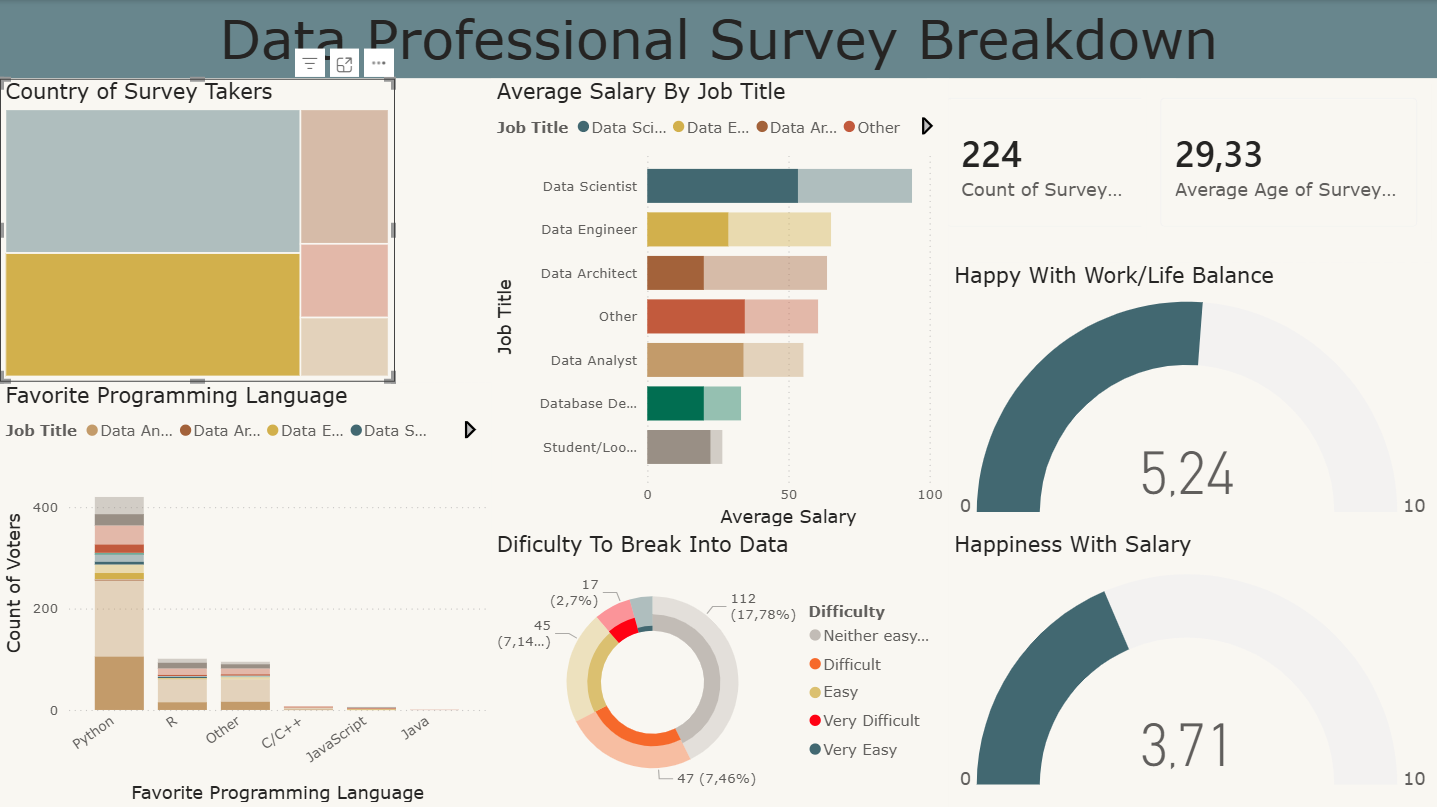

This screenshot's page, from the dashboard's own definition file:
{"tool":"powerbi","page":{"name":"Page 1","canvas":[1280,720],"ordinal":0},"visuals":[{"type":"textbox","box":[0,0,1280.3,70],"z":0},{"type":"cardVisual","fields":{"Data":["Count(Data Professional Survey.Unique ID)"]},"box":[826.1,70,220.9,149.6],"z":1000},{"type":"cardVisual","fields":{"Data":["Avg(Data Professional Survey.Q10 - Current Age)"]},"box":[1016.8,70,263.5,149.6],"z":2000},{"type":"barChart","title":"Average Salary By Job Title","fields":{"Category":["Data Professional Survey.Q1 - Which Title Best Fits your Current Role?.1"],"Y":["Avg(Data Professional Survey.Average Salary)"],"Series":["Data Professional Survey.Q1 - Which Title Best Fits your Current Role?.1"]},"box":[437.7,70,407.5,403.4],"z":3000},{"type":"columnChart","title":"Favorite Programming Language","fields":{"Category":["Data Professional Survey.Q5 - Favorite Programming Language.1"],"Y":["CountNonNull(Data Professional Survey.Unique ID)"],"Series":["Data Professional Survey.Q1 - Which Title Best Fits your Current Role?.1"]},"box":[0,340.3,437.7,378.7],"z":4000},{"type":"treemap","title":"Country of Survey Takers","fields":{"Group":["Data Professional Survey.Q11 - Which Country do you live in?.1"],"Values":["CountNonNull(Data Professional Survey.Q11 - Which Country do you live in?.1)"]},"box":[0,70,351.3,270.3],"z":5000},{"type":"gauge","title":"Happy With Work/Life Balance","fields":{"Y":["Avg(Data Professional Survey.Q6 - How Happy are you in your Current Position with the following? (Work/Life Balance))"],"MinValue":["Min(Data Professional Survey.Q6 - How Happy are you in your Current Position with the following? (Work/Life Balance))1"],"MaxValue":["Max(Data Professional Survey.Q6 - How Happy are you in your Current Position with the following? (Work/Life Balance))2"]},"box":[845.3,233.3,435,240.1],"z":6000},{"type":"gauge","title":"Happiness With Salary","fields":{"Y":["Avg(Data Professional Survey.Q6 - How Happy are you in your Current Position with the following? (Salary))"],"MinValue":["Min(Data Professional Survey.Q6 - How Happy are you in your Current Position with the following? (Salary))"],"MaxValue":["Max(Data Professional Survey.Q6 - How Happy are you in your Current Position with the following? (Salary))"]},"box":[845.3,473.4,435,247],"z":7000},{"type":"donutChart","title":"Dificulty To Break Into Data","fields":{"Category":["Data Professional Survey.Q7 - How difficult was it for you to break into Data?"],"Y":["CountNonNull(Data Professional Survey.Q7 - How difficult was it for you to break into Data?)"]},"box":[437.7,473.4,407.5,247],"z":8000}]}

Visuals, with their boxes in screenshot pixels (x1, y1, x2, y2), scaled from the page's 1280x720 canvas onto the 1437x807 screenshot:
textbox: [0,0,1436,78]
cardVisual - Count(Data Professional Survey.Unique ID): [927,78,1175,246]
cardVisual - Avg(Data Professional Survey.Q10 - Current Age): [1142,78,1436,246]
"Average Salary By Job Title" barChart: [491,78,949,531]
"Favorite Programming Language" columnChart: [0,381,491,806]
"Country of Survey Takers" treemap: [0,78,394,381]
"Happy With Work/Life Balance" gauge: [949,261,1436,531]
"Happiness With Salary" gauge: [949,531,1436,806]
"Dificulty To Break Into Data" donutChart: [491,531,949,806]
